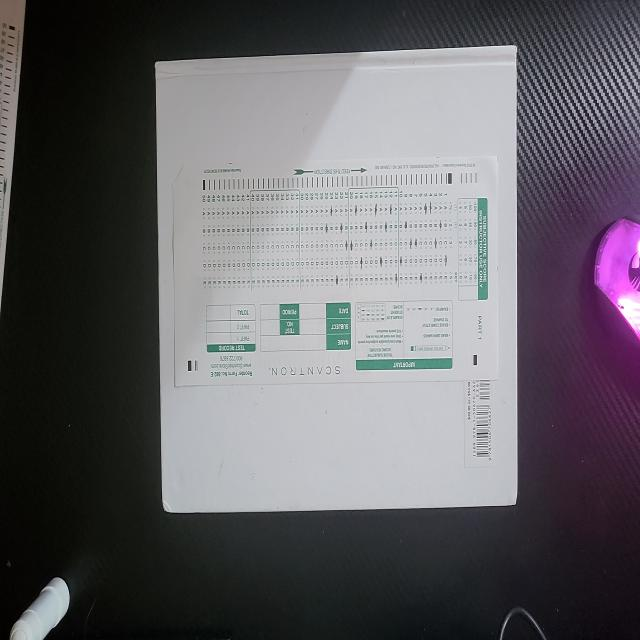scantron: (172, 156, 498, 388)
